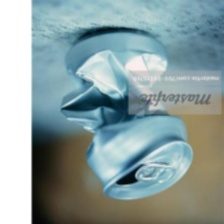can: (56, 25, 195, 203)
